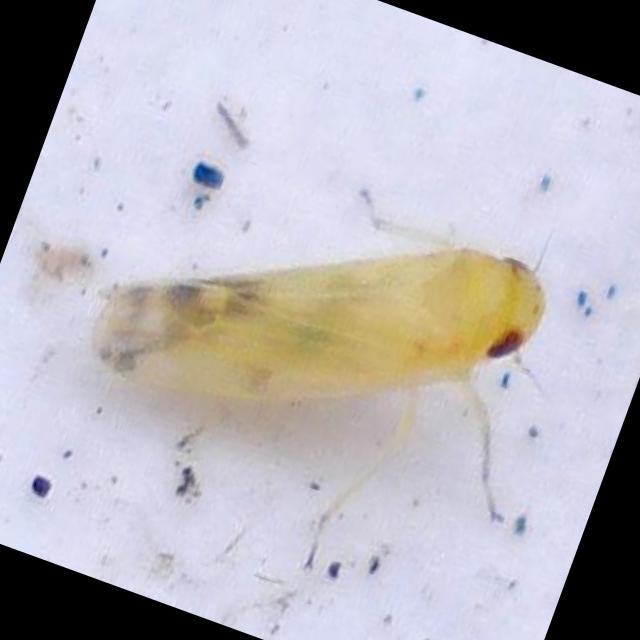green-leafhopper: (86, 187, 547, 538)
